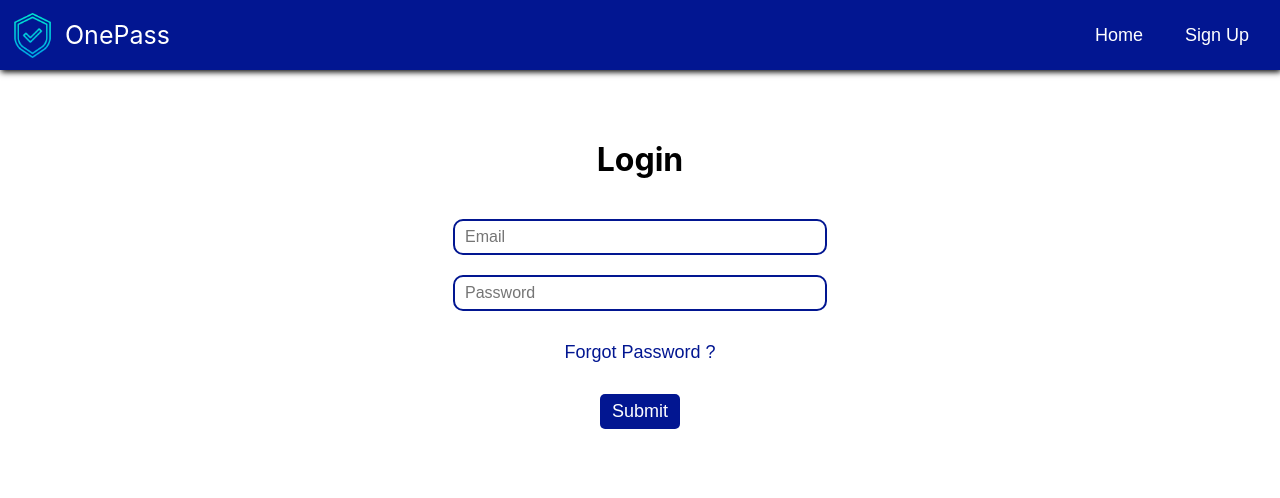
Test: <Login /> › Error message should show if submitted login form is not completed
Click the button "Submit" at {"x": 640, "y": 412}, box [600,394,680,429]
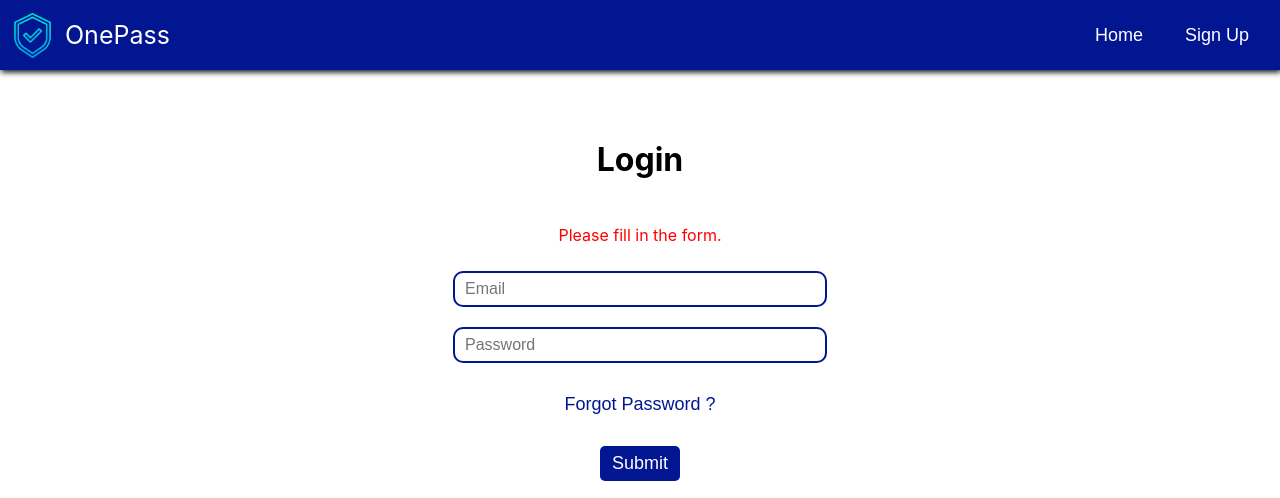
Expected: the text "Please fill in the form." is shown, [558,225,722,245]
